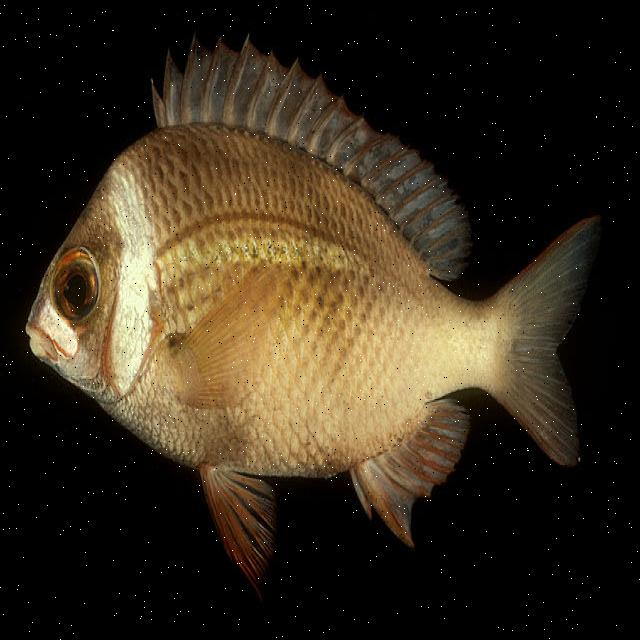ikan: (24, 30, 602, 597)
